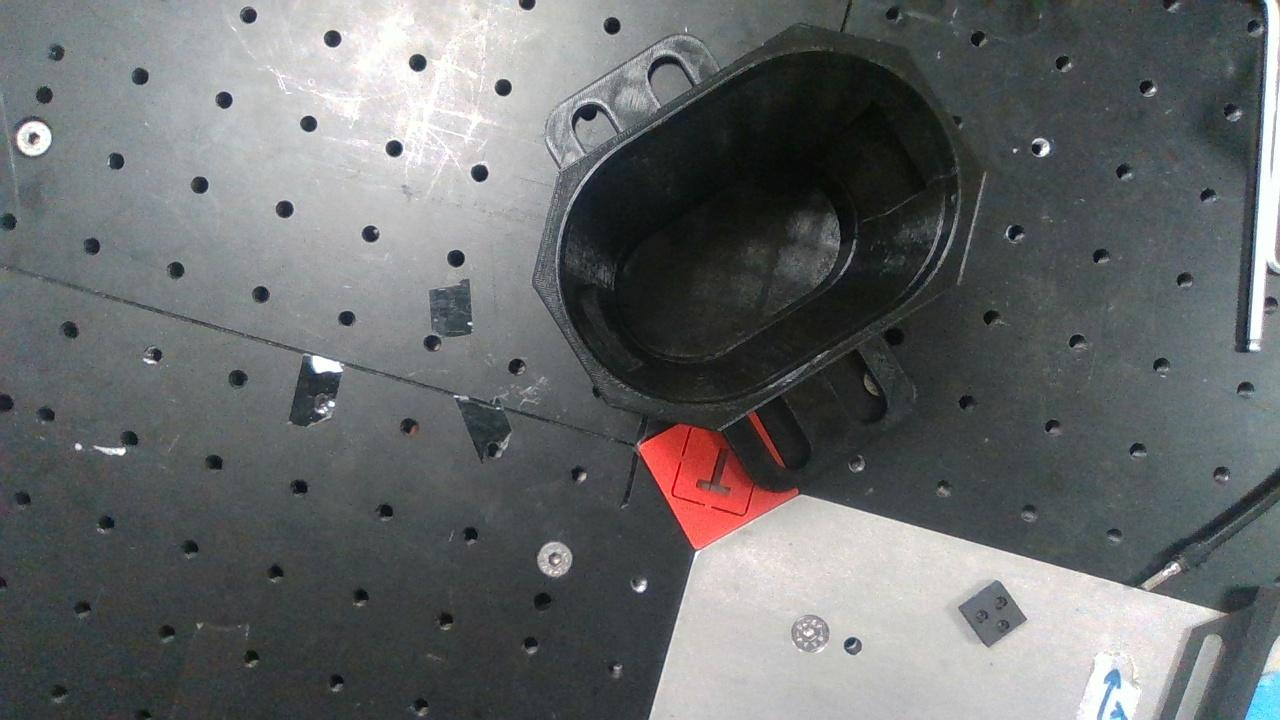small_interface: (530, 21, 989, 432)
